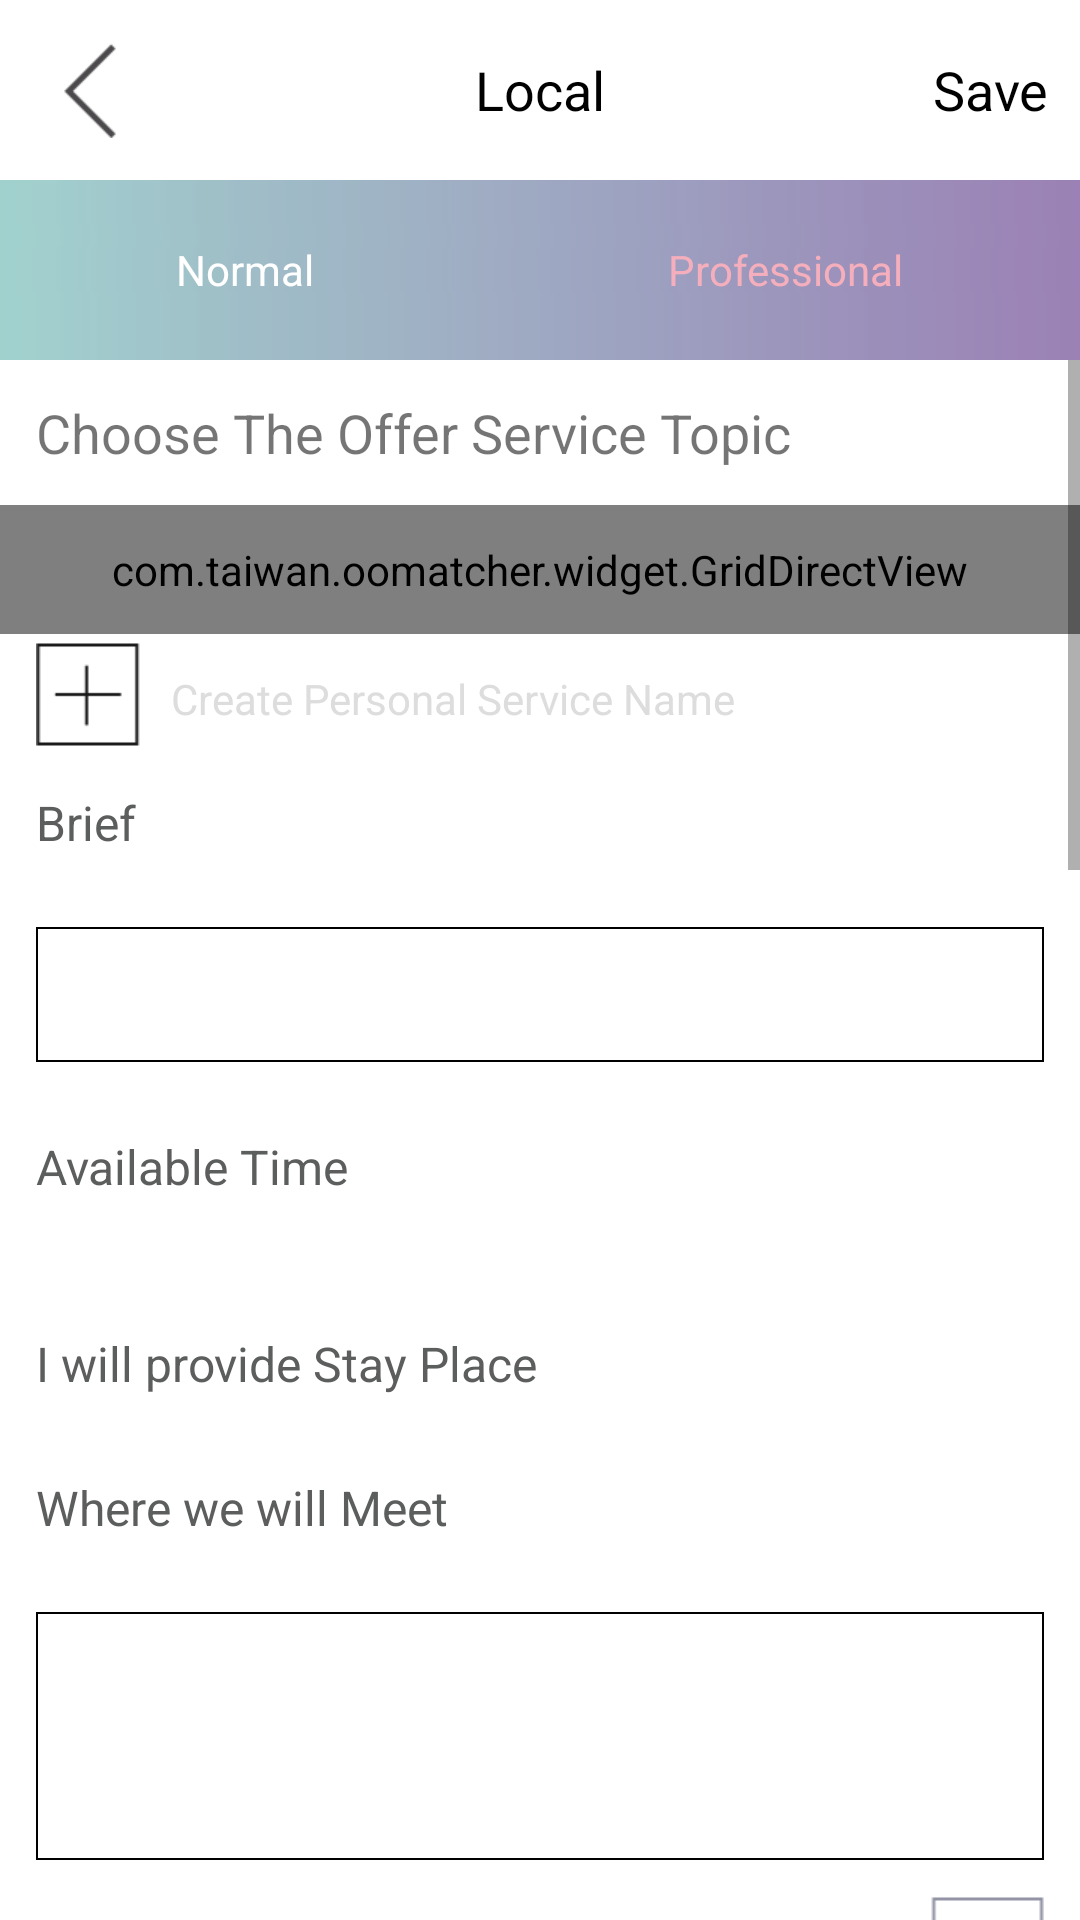

Screen size 1080 x 1920. Icon name, then its box in pixels as (x1, y1, x2, y2):
back: (64, 44, 116, 138)
